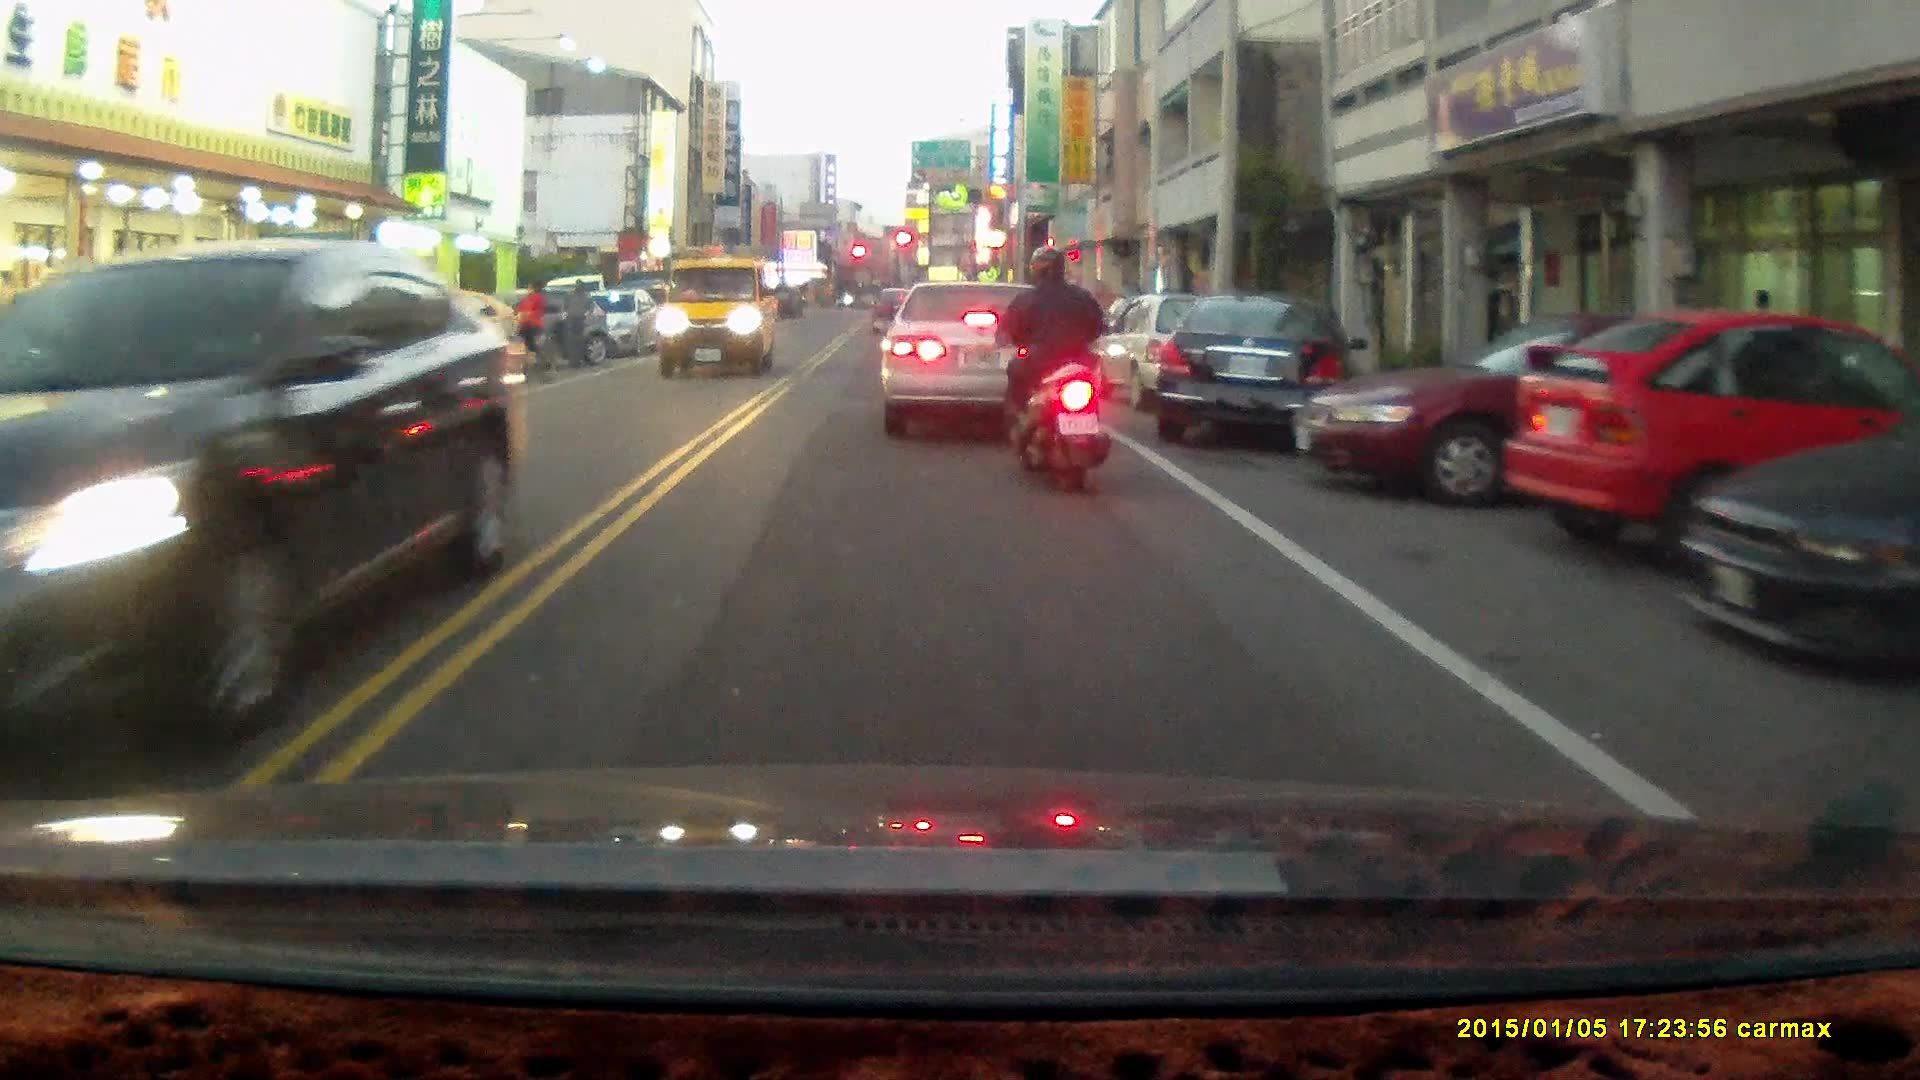pedestrian: (562, 279, 596, 373)
rider: (984, 244, 1118, 498), (491, 278, 559, 387)
vehicle: (1, 244, 518, 758), (1502, 308, 1899, 578), (1296, 307, 1762, 509), (1673, 350, 1920, 682), (1145, 293, 1348, 447), (879, 275, 1069, 428), (655, 255, 773, 380)
